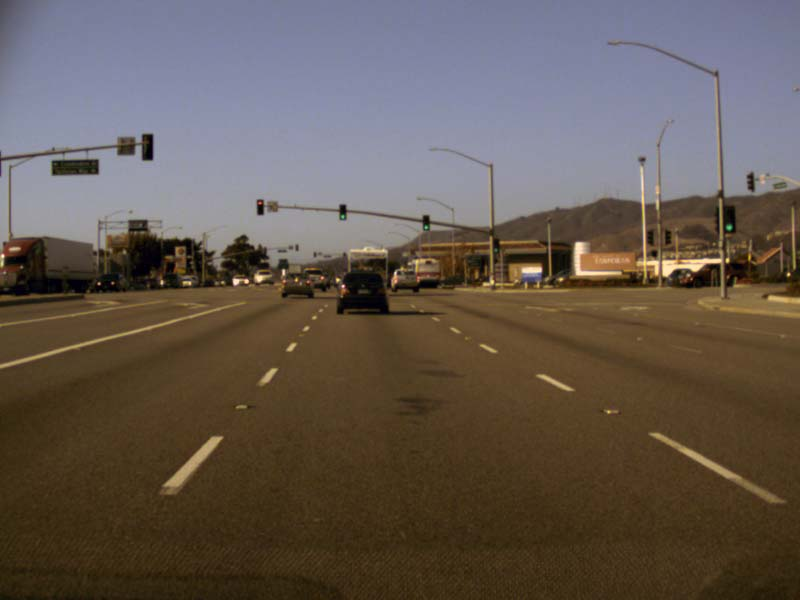Green: (722, 206, 735, 232), (338, 203, 346, 220), (422, 214, 429, 230), (493, 238, 499, 253)
Red: (256, 198, 264, 215)
